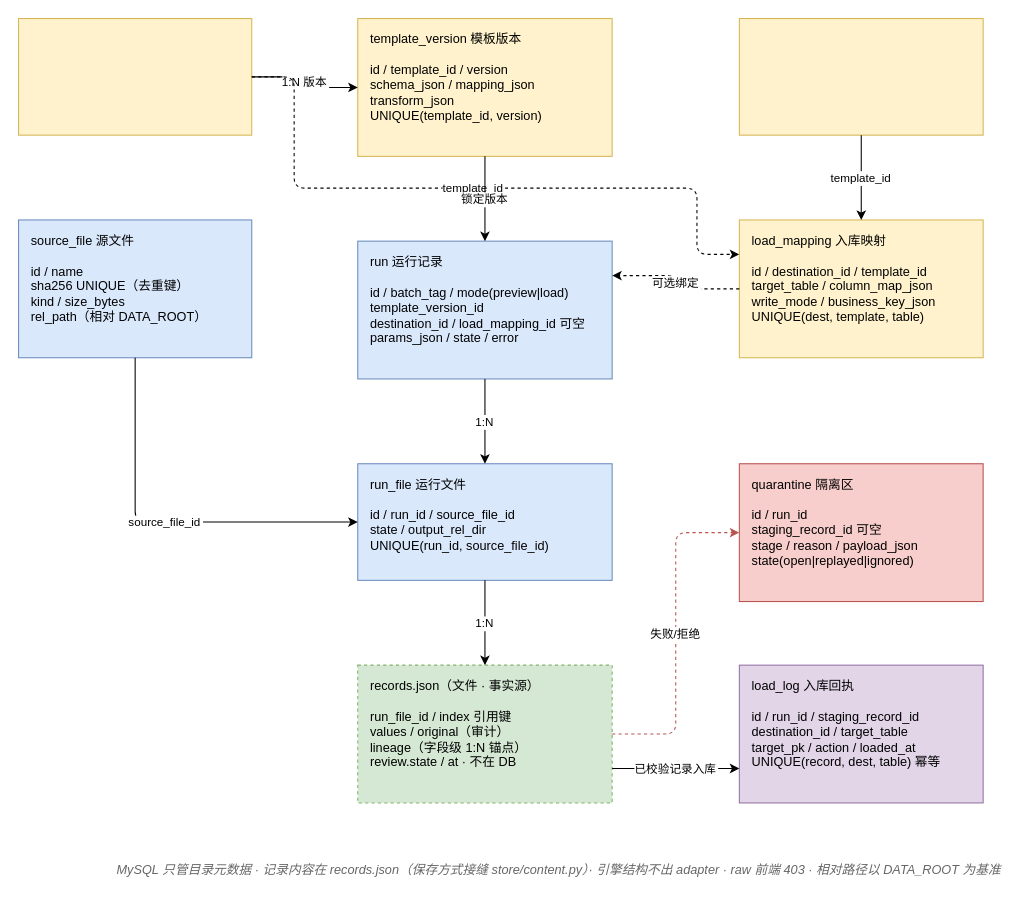
The diagram is 1022 pixels wide and 906 high, and some of its shapes have lost their labels. The shapes that lost their labels are listed below. From the top down, each one's centre as x and y in pixels, then its label:
point (134, 76): template 模板 id / name UNIQUE current_version description
point (860, 76): destination 入库目的地 id / name UNIQUE db_type / conn_ref （凭据只存引用名）
